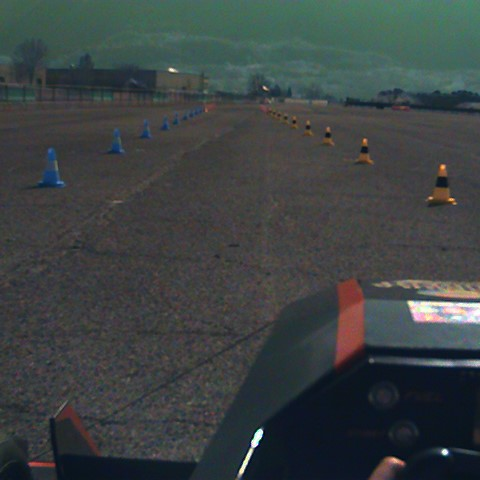cone: (39, 148, 64, 186), (107, 128, 123, 153), (140, 120, 151, 138), (161, 117, 168, 129), (173, 115, 177, 123)
